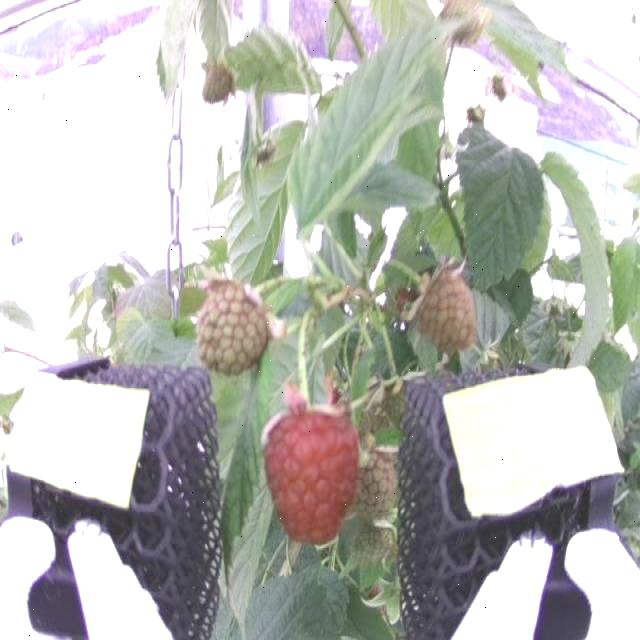Riped berries: (259, 391, 362, 546)
